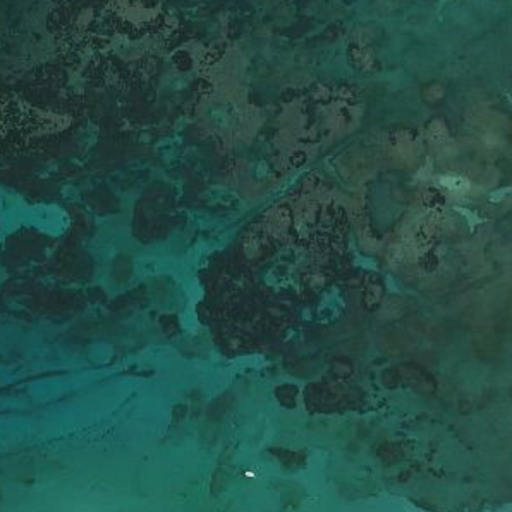ship: (243, 469, 256, 480)
